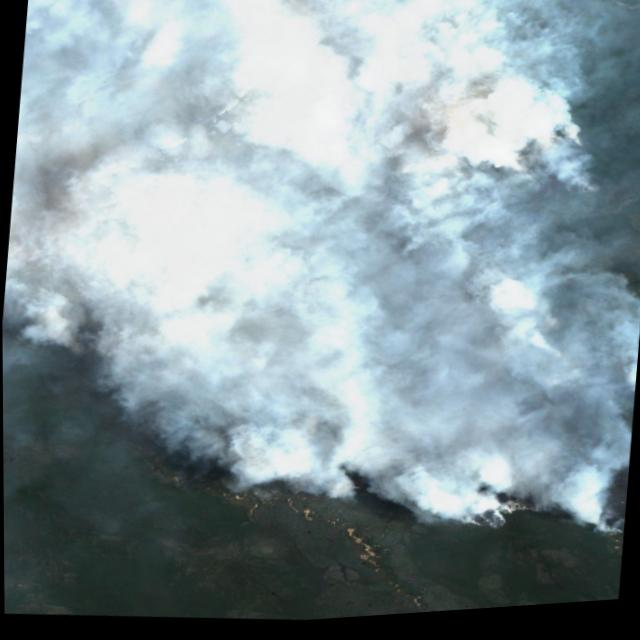fire: (33, 18, 640, 573)
